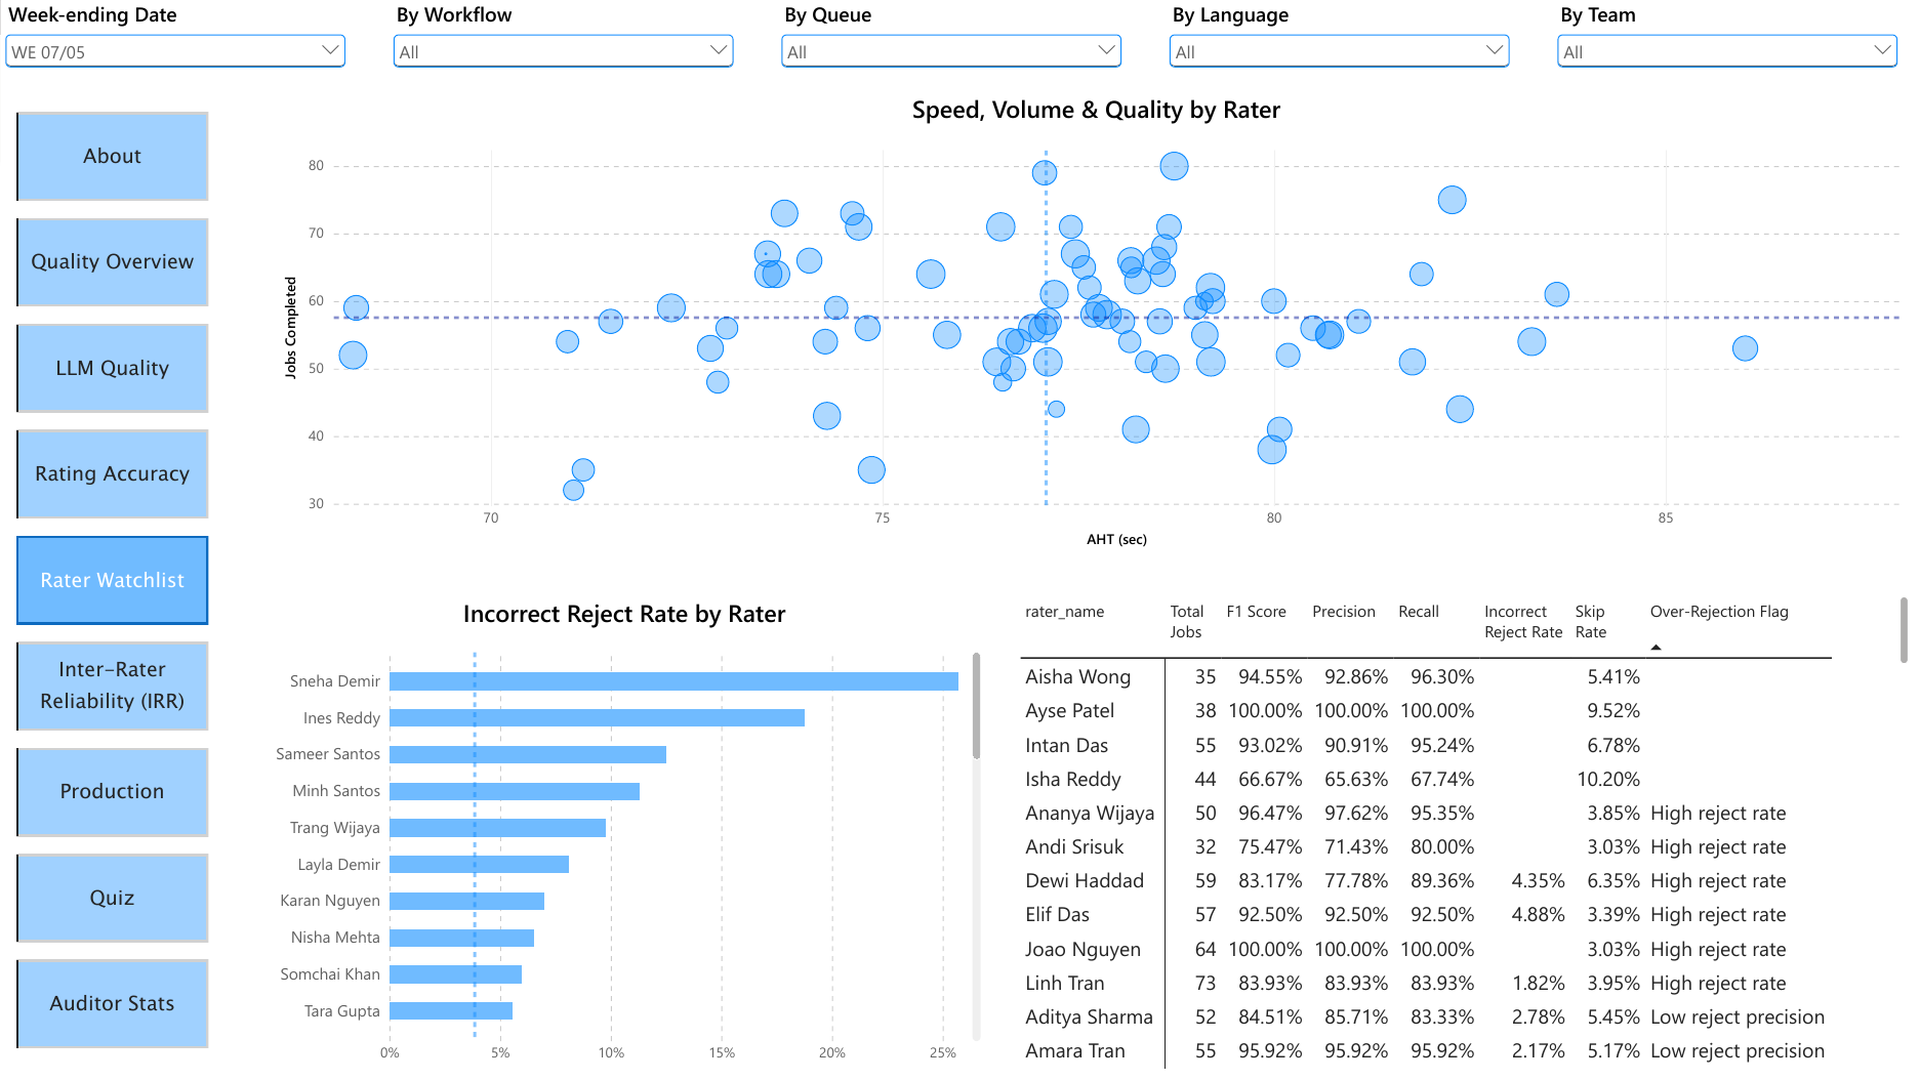

What the dashboard file says about the page in this screenshot:
{"tool":"powerbi","page":{"name":"Rater Watchlist","canvas":[1920,1080],"ordinal":4},"visuals":[{"type":"slicer","title":"By WE","fields":{"Values":["Dim_Date.week_label"]},"box":[6,9.8,350,80],"z":0,"group":"g1"},{"type":"scatterChart","title":"Speed, Volume & Quality by Rater","fields":{"Category":["Dim_Rater.rater_name"],"Size":["_Measures.F1 Score"],"X":["_Measures.AHT (sec)"],"Y":["_Measures.Jobs Completed"]},"box":[256,96,1632,464],"z":0},{"type":"slicer","fields":{"Values":["Dim_Rater.team"]},"box":[1558,9.8,350,80],"z":1000,"group":"g1"},{"type":"clusteredBarChart","title":"Incorrect Reject Rate by Rater","fields":{"Category":["Dim_Rater.rater_name"],"Y":["_Measures.Incorrect Reject Rate"]},"box":[256,592,688,464],"z":1000},{"type":"slicer","fields":{"Values":["Dim_Rater.language"]},"box":[1170,9.8,350,80],"z":2000,"group":"g1"},{"type":"pivotTable","fields":{"Rows":["Dim_Rater.rater_name"],"Values":["_Measures.Jobs Completed","_Measures.F1 Score","_Measures.Precision","_Measures.Recall","_Measures.Incorrect Reject Rate","_Measures.Skip Rate","_Measures.Over-Rejection Flag"]},"box":[1008,592,864,464],"z":2000},{"type":"group","id":"g1","title":"Group 4","box":[0,9.8,1908,1062.2],"z":3000},{"type":"slicer","fields":{"Values":["Dim_Queue.queue_id"]},"box":[782,9.8,350,80],"z":3000,"group":"g1"},{"type":"slicer","fields":{"Values":["Dim_Queue.workflow"]},"box":[394,9.8,350,80],"z":4000,"group":"g1"},{"type":"pageNavigator","box":[0,96,224,976],"z":9000,"group":"g1"}]}

Visuals, with their boxes in screenshot pixels (x1, y1, x2, y2), scaled from the page's 1920x1080 canvas onto the 1920x1080 screenshot:
"By WE" slicer: 6, 10, 356, 90
"Speed, Volume & Quality by Rater" scatterChart: 256, 96, 1888, 560
slicer - Dim_Rater.team: 1558, 10, 1908, 90
"Incorrect Reject Rate by Rater" clusteredBarChart: 256, 592, 944, 1056
slicer - Dim_Rater.language: 1170, 10, 1520, 90
pivotTable - Dim_Rater.rater_name x _Measures.Jobs Completed: 1008, 592, 1872, 1056
"Group 4" group: 0, 10, 1908, 1072
slicer - Dim_Queue.queue_id: 782, 10, 1132, 90
slicer - Dim_Queue.workflow: 394, 10, 744, 90
pageNavigator: 0, 96, 224, 1072
